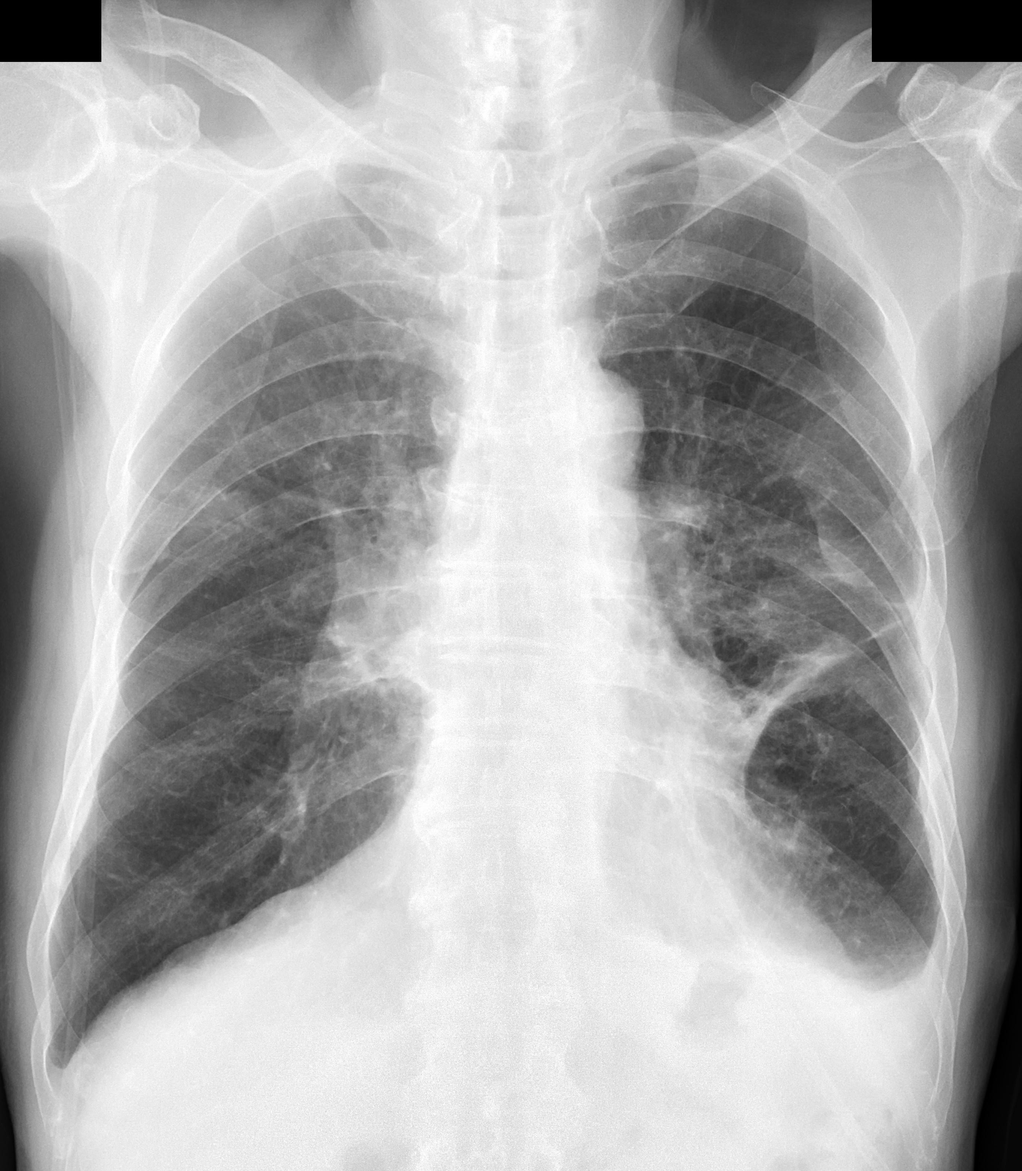Pleural thickening: (830, 919, 943, 1033), (33, 1037, 83, 1098)
Pulmonary fibrosis: (677, 587, 920, 829)
